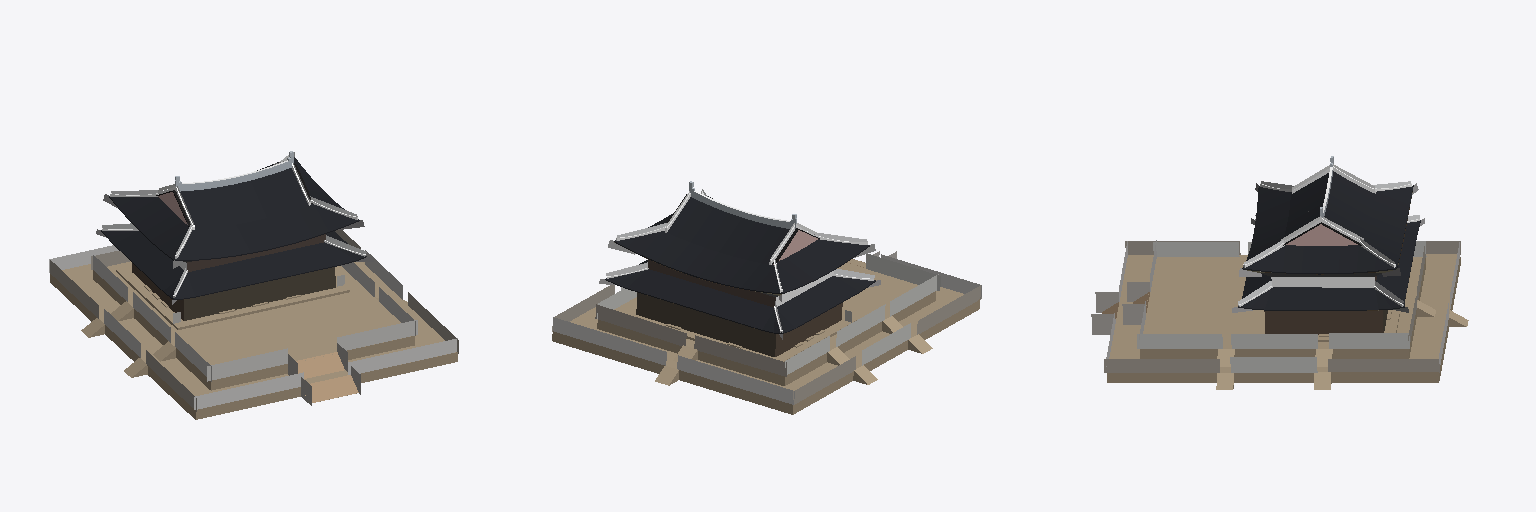
The model's file is kunjungjun_2.obj.
3 renders of one model, left to right at view 1: azimuth 30°, elevation 25°; view 2: azimuth 150°, elevation 25°; view 3: azimuth 270°, elevation 25°, orthographic.
Parts seen in each view (by area): view 1: Mesh210 Component_6_1 Group1 ___1 Model, Mesh114 Group6 Group2 Group1 ___1 Model, Mesh164 Group2 Group1 ___1 Model, Mesh163 Group2 Group1 ___1 Model, Mesh202 ___1_1_1 Group1 ___1 Model, Mesh188 ______34_1 Group1 ___1 Model, Mesh189 ______33_1 Group1 ___1 Model, Mesh195 ______41_1 Group1 ___1 Model, Mesh194 ______42_1 Group1 ___1 Model, Mesh70 ______20_1 Group6 Group2 Group1 ___1 Model, Mesh208 ______21_1 Component_6_1 Group1 ___1 Model, Mesh27 G_2____1_1 Group5 Group2 Group1 ___1 Model (+9 smaller); view 2: Mesh210 Component_6_1 Group1 ___1 Model, Mesh114 Group6 Group2 Group1 ___1 Model, Mesh164 Group2 Group1 ___1 Model, Mesh163 Group2 Group1 ___1 Model, Mesh187 ______35_1 Group1 ___1 Model, Mesh186 ______1_1_1 Group1 ___1 Model, Mesh193 ___6_1 Group1 ___1 Model, Mesh192 ___1_1 Group1 ___1 Model, Mesh202 ___1_1_1 Group1 ___1 Model, Mesh195 ______41_1 Group1 ___1 Model, Mesh29 G_2____1_2 Group5 Group2 Group1 ___1 Model, Mesh198 ___2_1 Group1 ___1 Model (+8 smaller); view 3: Mesh210 Component_6_1 Group1 ___1 Model, Mesh114 Group6 Group2 Group1 ___1 Model, Mesh164 Group2 Group1 ___1 Model, Mesh163 Group2 Group1 ___1 Model, Mesh223 ___5_1 Group1 ___1 Model, Mesh185 ___4_1 Group1 ___1 Model, Mesh224 ______43_1 Group1 ___1 Model, Mesh184 ______36_1 Group1 ___1 Model, Mesh181 ______38_1 Group1 ___1 Model, Mesh196 ______40_1 Group1 ___1 Model, Mesh191 ______10_1 Group1 ___1 Model, Mesh23 G_2______1_1 Group5 Group2 Group1 ___1 Model (+1 smaller).
Boxes of the visible parts, x1,y1,x2,y2 form: Mesh210 Component_6_1 Group1 ___1 Model: [50, 261, 457, 419]; Mesh114 Group6 Group2 Group1 ___1 Model: [109, 157, 359, 260]; Mesh164 Group2 Group1 ___1 Model: [101, 230, 366, 299]; Mesh163 Group2 Group1 ___1 Model: [132, 263, 335, 320]; Mesh202 ___1_1_1 Group1 ___1 Model: [116, 267, 349, 329]; Mesh188 ______34_1 Group1 ___1 Model: [194, 372, 303, 409]; Mesh189 ______33_1 Group1 ___1 Model: [348, 338, 457, 374]; Mesh195 ______41_1 Group1 ___1 Model: [207, 348, 287, 381]; Mesh194 ______42_1 Group1 ___1 Model: [337, 320, 417, 350]; Mesh70 ______20_1 Group6 Group2 Group1 ___1 Model: [175, 151, 293, 191]; Mesh208 ______21_1 Component_6_1 Group1 ___1 Model: [305, 375, 358, 402]; Mesh27 G_2____1_1 Group5 Group2 Group1 ___1 Model: [187, 234, 325, 271]; Mesh210 Component_6_1 Group1 ___1 Model: [552, 259, 979, 414]; Mesh114 Group6 Group2 Group1 ___1 Model: [614, 196, 869, 293]; Mesh164 Group2 Group1 ___1 Model: [605, 260, 875, 333]; Mesh163 Group2 Group1 ___1 Model: [636, 292, 842, 356]; Mesh187 ______35_1 Group1 ___1 Model: [677, 355, 794, 404]; Mesh186 ______1_1_1 Group1 ___1 Model: [553, 317, 666, 365]; Mesh193 ___6_1 Group1 ___1 Model: [694, 335, 786, 376]; Mesh192 ___1_1 Group1 ___1 Model: [595, 304, 686, 345]; Mesh202 ___1_1_1 Group1 ___1 Model: [625, 307, 857, 361]; Mesh195 ______41_1 Group1 ___1 Model: [866, 254, 940, 290]; Mesh29 G_2____1_2 Group5 Group2 Group1 ___1 Model: [648, 259, 775, 307]; Mesh198 ___2_1 Group1 ___1 Model: [917, 285, 981, 334]; Mesh210 Component_6_1 Group1 ___1 Model: [1107, 254, 1468, 389]; Mesh114 Group6 Group2 Group1 ___1 Model: [1242, 171, 1413, 274]; Mesh164 Group2 Group1 ___1 Model: [1238, 220, 1420, 310]; Mesh163 Group2 Group1 ___1 Model: [1264, 310, 1387, 334]; Mesh223 ___5_1 Group1 ___1 Model: [1104, 359, 1219, 372]; Mesh185 ___4_1 Group1 ___1 Model: [1328, 359, 1439, 372]; Mesh224 ______43_1 Group1 ___1 Model: [1230, 357, 1317, 372]; Mesh184 ______36_1 Group1 ___1 Model: [1231, 334, 1317, 348]; Mesh181 ______38_1 Group1 ___1 Model: [1329, 333, 1409, 348]; Mesh196 ______40_1 Group1 ___1 Model: [1137, 334, 1222, 348]; Mesh191 ______10_1 Group1 ___1 Model: [1153, 242, 1239, 256]; Mesh23 G_2______1_1 Group5 Group2 Group1 ___1 Model: [1271, 277, 1374, 287].
Size of the model in its own units: 60.16 by 29.9 by 67.83.